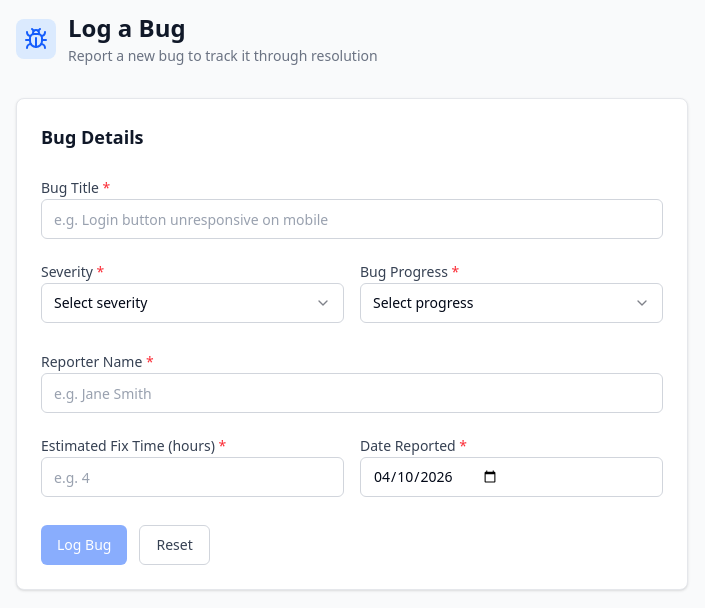
Test case: LogBugPage › reset button clears the title field
Type "Some bug" into the field labelled "Bug Title *" at (352, 219), box left=41, top=199, right=663, bottom=239
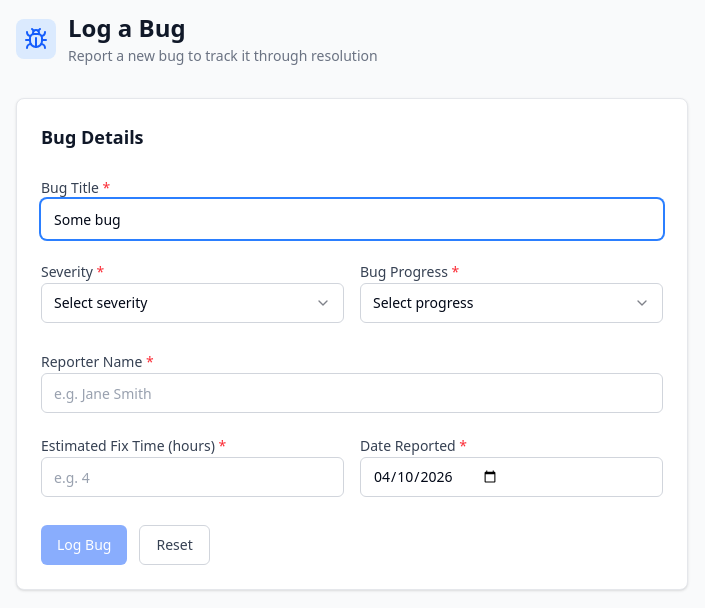
Click the button "Reset" at (175, 545), box left=139, top=525, right=210, bottom=565
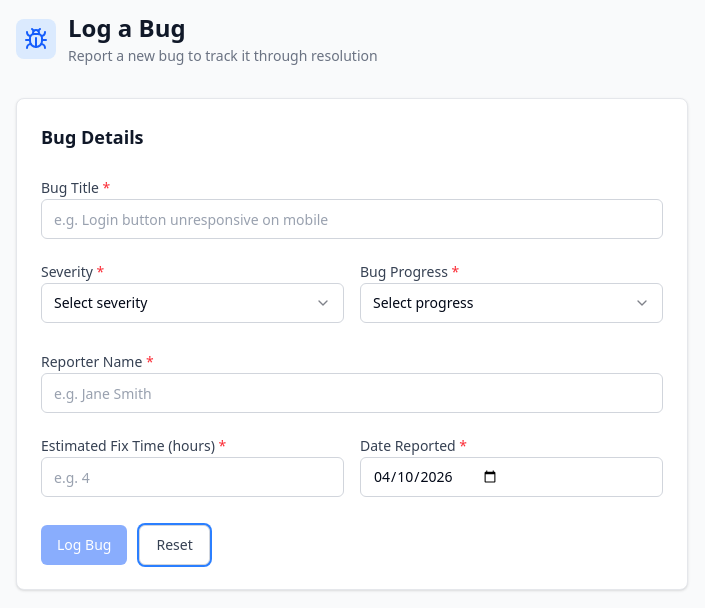
expect the field labelled "Bug Title *" is empty: met, box left=41, top=199, right=663, bottom=239
